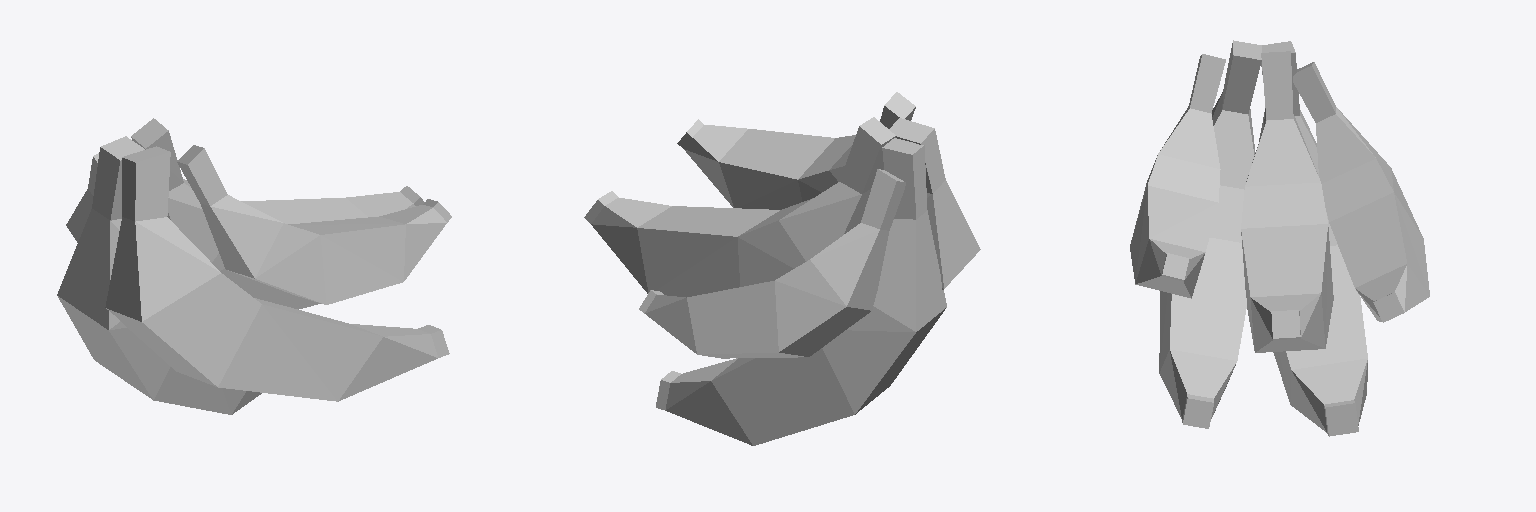
File: bananas.obj
The picture shows the model from 3 angles: view 1: azimuth 30°, elevation 25°; view 2: azimuth 150°, elevation 25°; view 3: azimuth 270°, elevation 25°; orthographic projection.
Parts seen in each view (by area): view 1: bananas_Cube.002; view 2: bananas_Cube.002; view 3: bananas_Cube.002.
Boxes of the visible parts, <box> form: bananas_Cube.002: <box>57,118,451,414</box>; bananas_Cube.002: <box>584,92,980,445</box>; bananas_Cube.002: <box>1130,40,1429,436</box>.
Size of the model in its own units: 2.01 by 1.75 by 1.51.